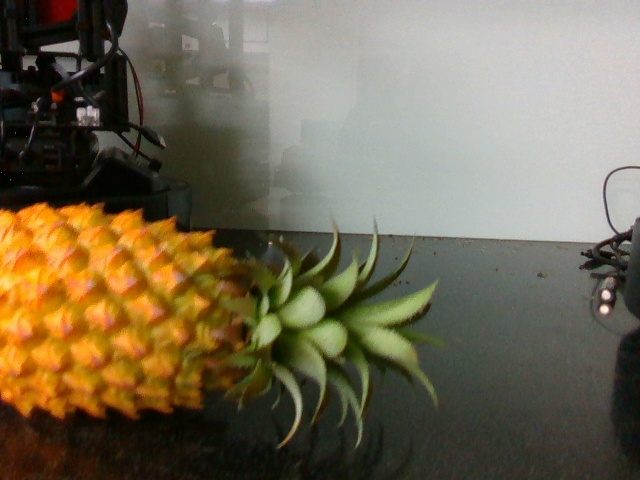pineapple: (1, 188, 442, 442)
